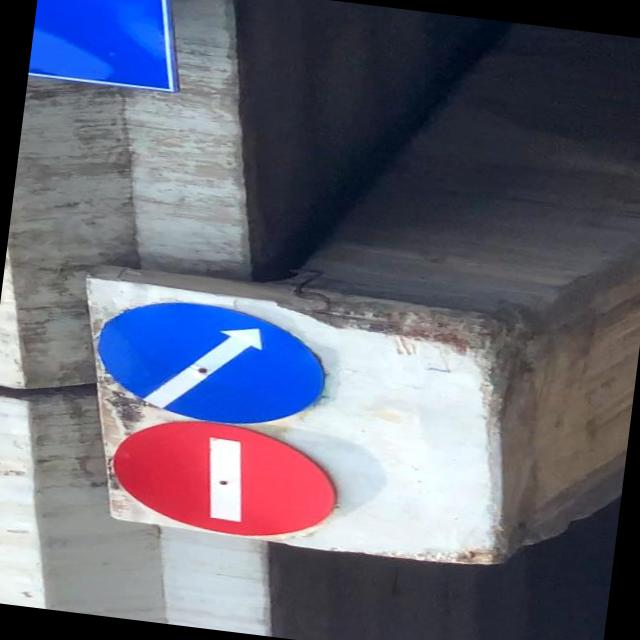P-102: (102, 408, 346, 546)
R-302a: (90, 292, 336, 434)
